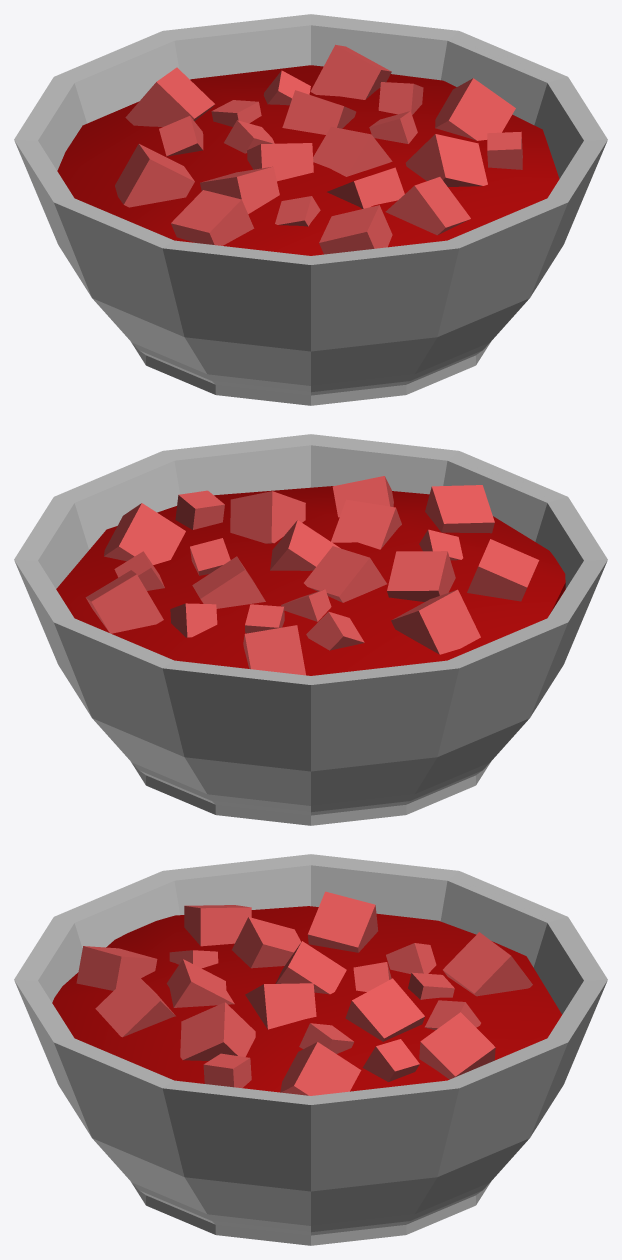
Rendered from kimchi.fbx.
3 views of the same model, one above another, from view 1: azimuth 30°, elevation 25°; view 2: azimuth 150°, elevation 25°; view 3: azimuth 270°, elevation 25° (orthographic).
Visible parts, largest first — view 1: pCylinder1, pCube3, polySurface32, polySurface45, polySurface29, polySurface47, polySurface30, polySurface44, polySurface33, polySurface34, polySurface43, polySurface31 (+11 smaller); view 2: pCylinder1, pCube3, polySurface32, polySurface45, polySurface47, polySurface33, polySurface31, polySurface34, polySurface29, polySurface46, polySurface30, polySurface49 (+11 smaller); view 3: pCylinder1, pCube3, polySurface30, polySurface47, polySurface33, polySurface32, polySurface48, polySurface45, polySurface44, polySurface34, polySurface31, polySurface43 (+11 smaller).
Part boxes in pixels (left/top/right/bottom): pCylinder1: left=14, top=14, right=607, bottom=405; pCube3: left=57, top=65, right=559, bottom=255; polySurface32: left=115, top=144, right=194, bottom=207; polySurface45: left=435, top=78, right=515, bottom=140; polySurface29: left=171, top=190, right=254, bottom=245; polySurface47: left=405, top=134, right=487, bottom=186; polySurface30: left=125, top=67, right=214, bottom=126; polySurface44: left=385, top=177, right=470, bottom=235; polySurface33: left=310, top=44, right=391, bottom=99; polySurface34: left=319, top=205, right=392, bottom=254; polySurface43: left=313, top=126, right=392, bottom=176; polySurface31: left=200, top=166, right=279, bottom=214; pCylinder1: left=14, top=434, right=607, bottom=825; pCube3: left=56, top=486, right=565, bottom=675; polySurface32: left=391, top=589, right=480, bottom=654; polySurface45: left=104, top=503, right=185, bottom=564; polySurface47: left=230, top=491, right=305, bottom=543; polySurface33: left=85, top=570, right=163, bottom=633; polySurface31: left=387, top=551, right=455, bottom=601; polySurface34: left=425, top=485, right=494, bottom=533; polySurface29: left=467, top=539, right=539, bottom=601; polySurface46: left=304, top=546, right=386, bottom=602; polySurface30: left=243, top=625, right=305, bottom=675; polySurface49: left=331, top=500, right=401, bottom=549; pCylinder1: left=14, top=854, right=607, bottom=1245; pCube3: left=52, top=906, right=561, bottom=1092; polySurface30: left=443, top=932, right=532, bottom=996; polySurface47: left=180, top=1002, right=255, bottom=1060; polySurface33: left=419, top=1012, right=495, bottom=1079; polySurface32: left=307, top=891, right=378, bottom=952; polySurface48: left=345, top=978, right=424, bottom=1041; polySurface45: left=280, top=1042, right=361, bottom=1095; polySurface44: left=95, top=971, right=175, bottom=1037; polySurface34: left=76, top=946, right=157, bottom=990; polySurface31: left=232, top=917, right=300, bottom=968; polySurface43: left=245, top=983, right=316, bottom=1029.
Bounding box in the file's own units: 2.6 × 0.9879 × 2.6.
